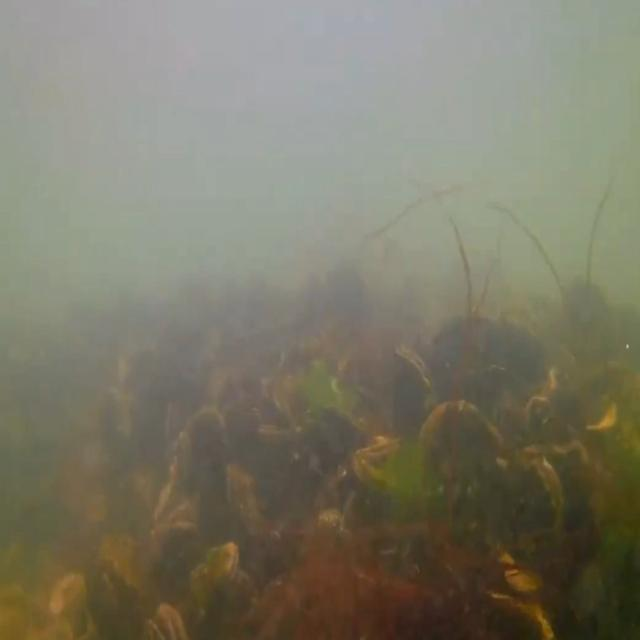Oyster-Closed: (392, 346, 432, 462), (183, 543, 241, 600), (352, 432, 412, 484), (253, 418, 300, 452)
Oyster-Indeterminate: (414, 398, 510, 499), (180, 408, 233, 546), (492, 447, 566, 540), (488, 586, 557, 640), (154, 432, 191, 532), (224, 461, 266, 546), (318, 404, 368, 460), (145, 495, 201, 541), (496, 548, 550, 590)
